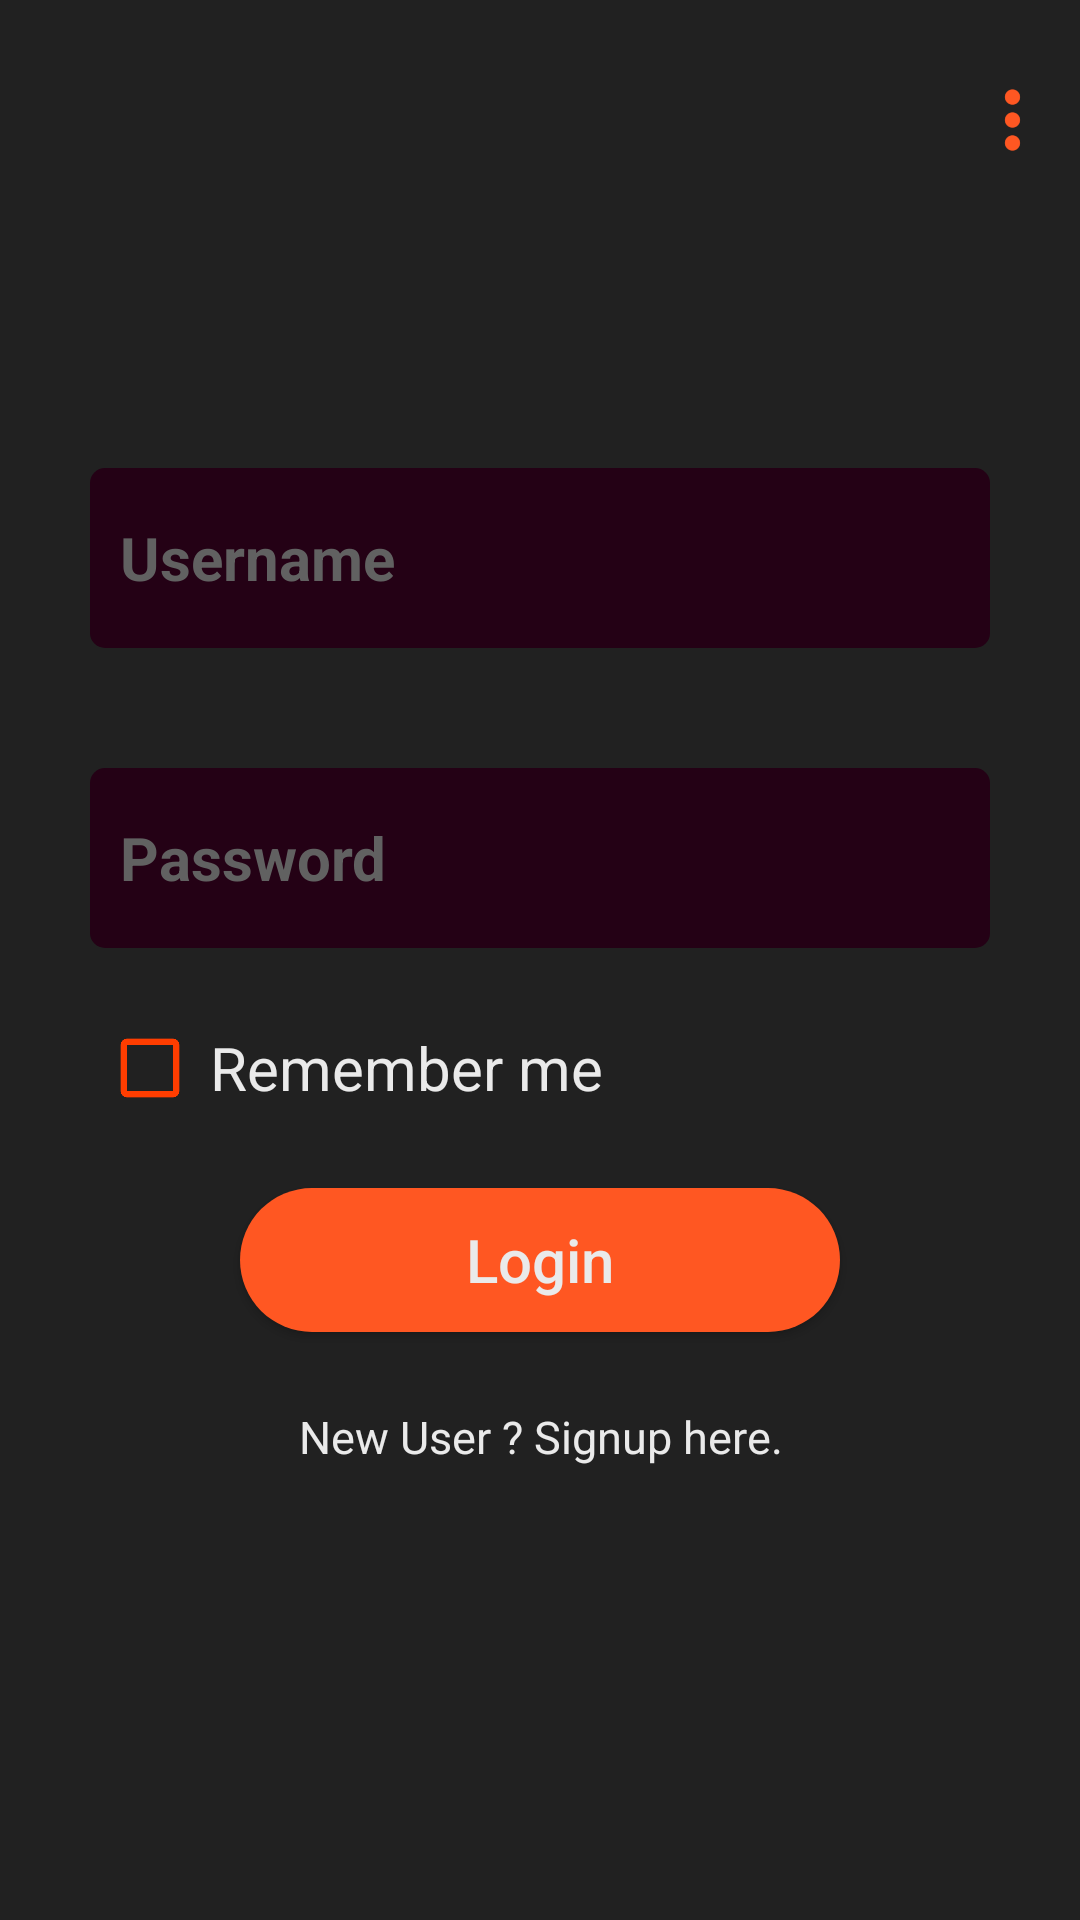

Named icons in this screenshot (1080×1920) and their bounding boxes, (x1, y1, x2, y2):
checkbox unchecked: (120, 1038, 180, 1098)
menu: (1005, 89, 1020, 151)
